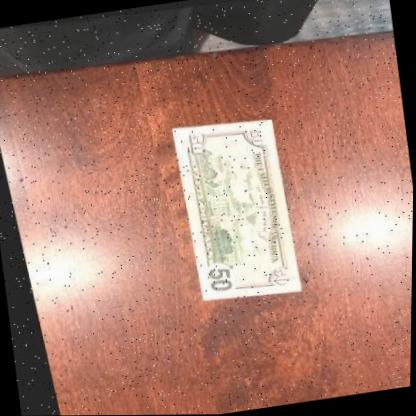dollar_back: (159, 110, 306, 307)
